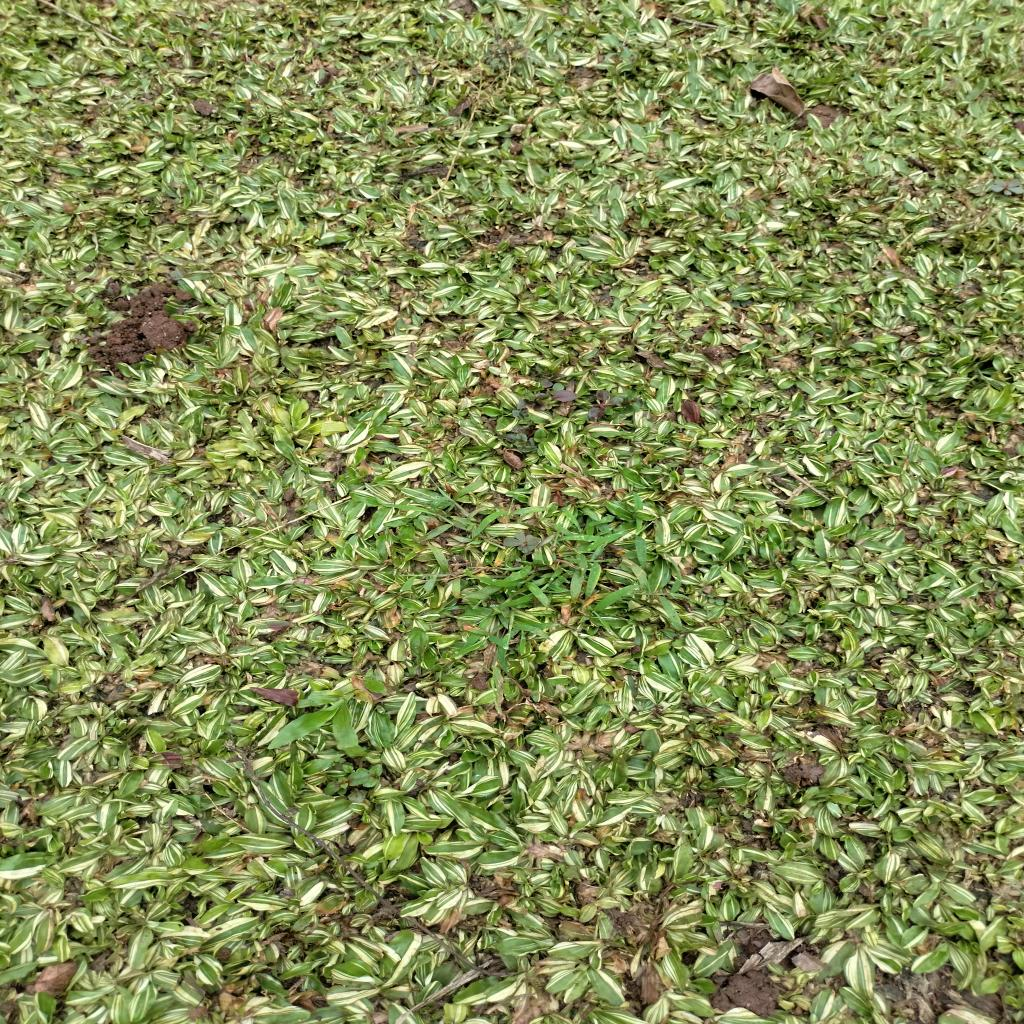buah daun: (484, 35, 548, 72), (601, 24, 641, 74), (988, 175, 1023, 199)
rambat atas: (482, 568, 554, 662), (553, 508, 617, 606), (382, 489, 488, 540), (656, 579, 694, 633), (400, 569, 460, 593)
rambat bawah: (268, 687, 365, 756)
ungu tunggang: (515, 386, 631, 421), (324, 766, 389, 800), (499, 429, 553, 458)
